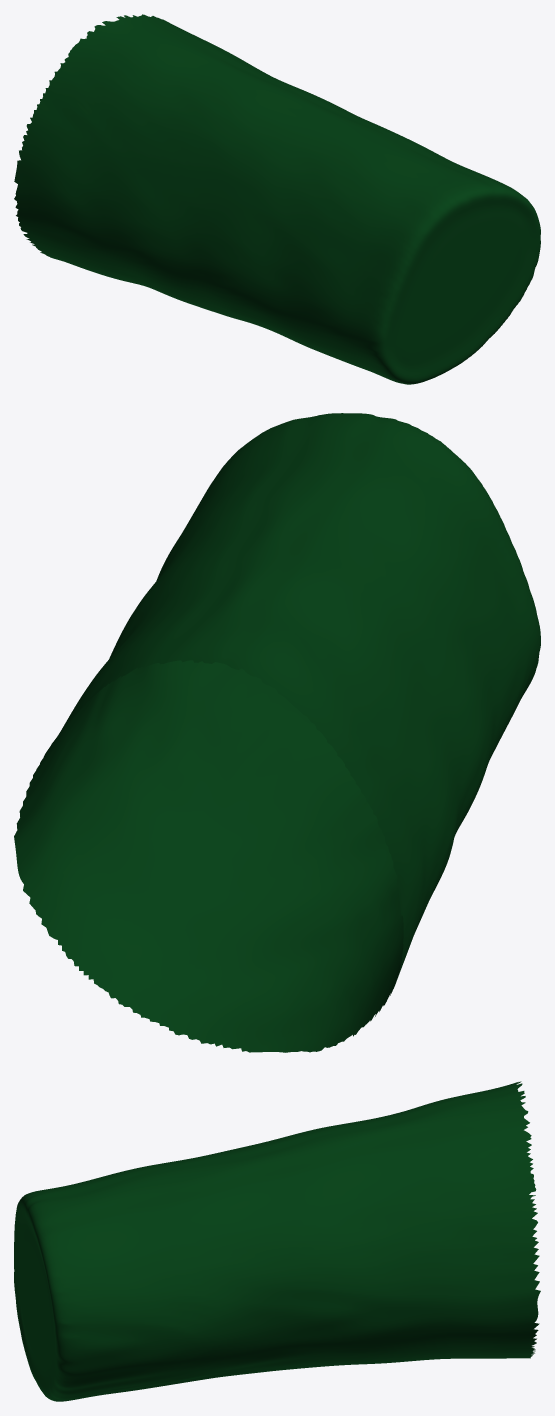
File: proximalsmooth.obj
The picture shows the model from 3 angles, top to bottom: view 1: azimuth 30°, elevation 25°; view 2: azimuth 150°, elevation 25°; view 3: azimuth 270°, elevation 25°; orthographic projection. The views are drawn at different scales.
Visible parts, largest first — view 1: tibiasmooth.002; view 2: tibiasmooth.002; view 3: tibiasmooth.002.
Boxes of the visible parts, bbox=[...] form: tibiasmooth.002: bbox=[14, 14, 540, 384]; tibiasmooth.002: bbox=[14, 413, 540, 1052]; tibiasmooth.002: bbox=[14, 1081, 540, 1401].
Bounding box in the file's own units: 0.0335 × 0.0232 × 0.0432.
